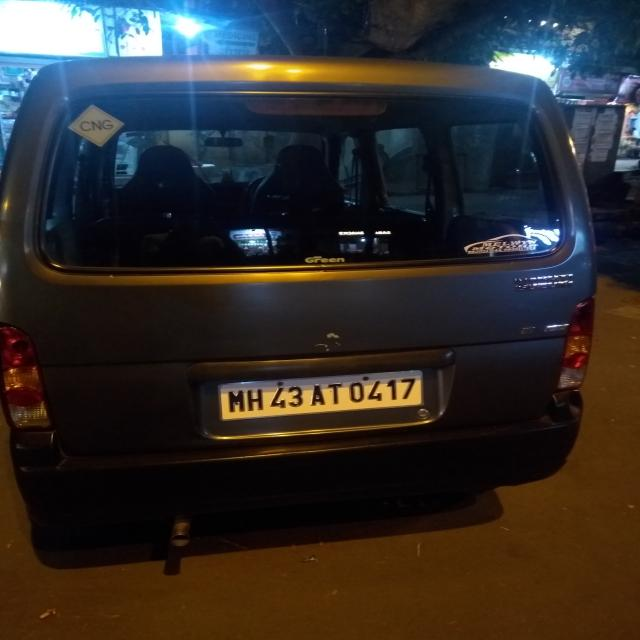Number-Plate: (221, 376, 426, 415)
